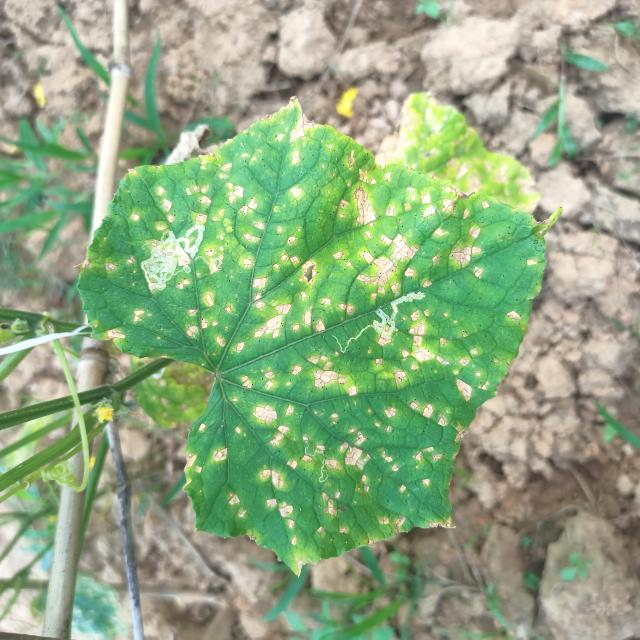disease_cucumber: (99, 132, 501, 548)
